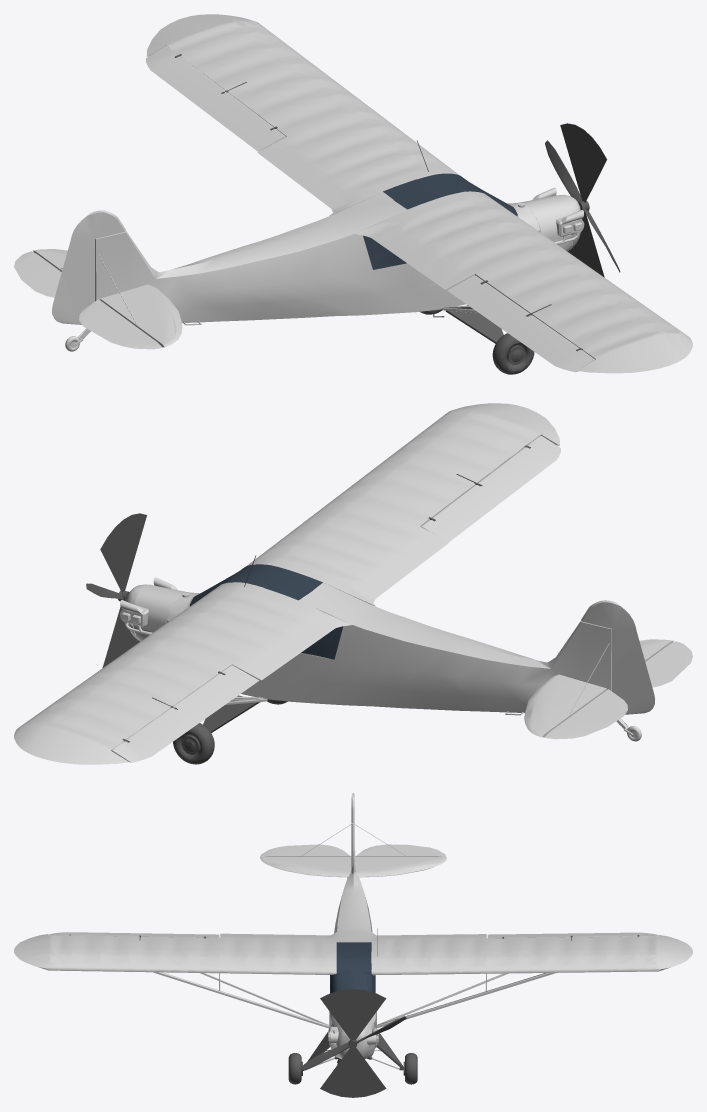
The picture shows the model from 3 angles, top to bottom: view 1: azimuth 30°, elevation 25°; view 2: azimuth 150°, elevation 25°; view 3: azimuth 270°, elevation 25°; orthographic projection. The views are drawn at different scales.
Visible parts, largest first — view 1: body, spin, glass, trim; view 2: body, spin, glass, trim; view 3: body, spin, glass, trim.
Part boxes in pixels (bbox=[...]): body: bbox=[14, 14, 692, 373]; spin: bbox=[545, 123, 620, 277]; glass: bbox=[363, 173, 517, 269]; trim: bbox=[175, 54, 582, 374]; body: bbox=[14, 403, 692, 764]; spin: bbox=[86, 513, 146, 667]; glass: bbox=[190, 564, 343, 659]; trim: bbox=[122, 445, 530, 764]; body: bbox=[14, 793, 692, 1069]; spin: bbox=[300, 989, 406, 1097]; glass: bbox=[330, 942, 375, 993]; trim: bbox=[69, 877, 639, 1084].
Size of the model in its own units: 1.42 by 0.5652 by 2.2.
